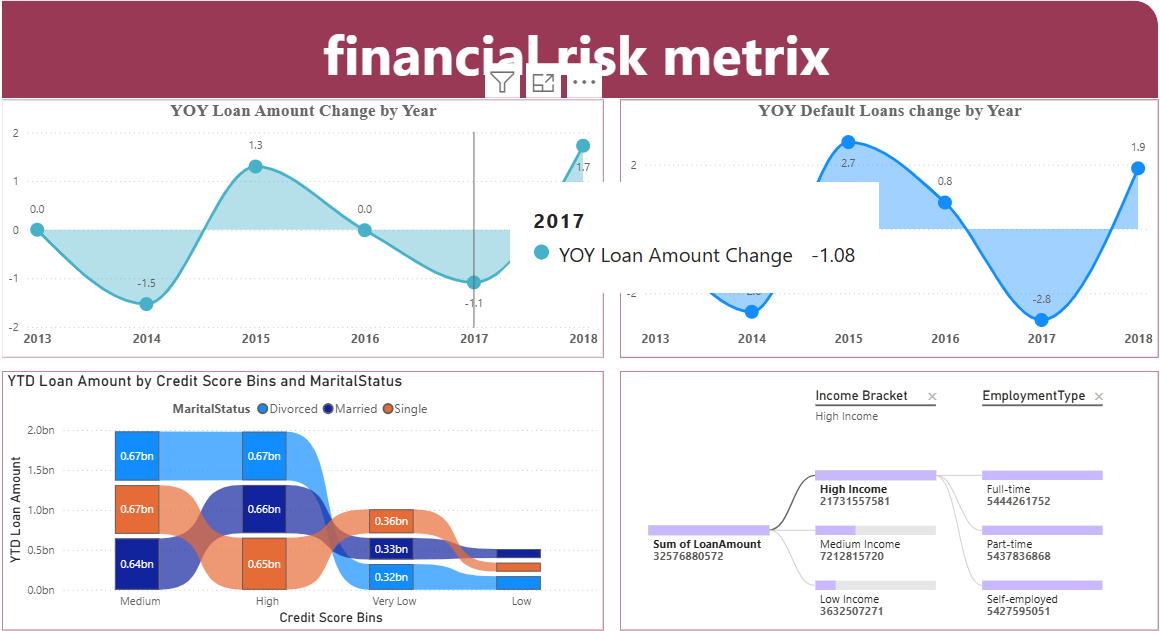

The dashboard page shown, as its layout file describes it:
{"tool":"powerbi","page":{"name":"financial risk matrix","canvas":[1280,720],"ordinal":2},"visuals":[{"type":"shape","box":[16.7,14.8,1247.9,105.5],"z":0},{"type":"lineChart","fields":{"Category":["Loan+Dataset+Link (1).Year"],"Y":["Measure Table 3.YOY Loan Amount Change"]},"box":[16.2,121.4,649.3,278.5],"z":1000},{"type":"lineChart","fields":{"Category":["Loan+Dataset+Link (1).Year"],"Y":["Measure Table 3.YOY Default Loans change"]},"box":[683.3,121.4,581.3,278.5],"z":2000},{"type":"ribbonChart","fields":{"Category":["Loan+Dataset+Link (1).Credit Score Bins"],"Series":["Loan+Dataset+Link (1).MaritalStatus"],"Y":["Measure Table 3.YTD Loan Amount"]},"box":[16.2,414.5,649.3,280.1],"z":3000},{"type":"decompositionTreeVisual","fields":{"Analyze":["Sum(Loan+Dataset+Link (1).LoanAmount)"],"ExplainBy":["Loan+Dataset+Link (1).Income Bracket","Loan+Dataset+Link (1).EmploymentType"]},"box":[683.3,414.5,581.3,280.1],"z":4000}]}

Visuals, with their boxes on the page's 1280x720 design canvas (x1, y1, x2, y2). These are canvas units, not pixel positions in the 1160x631 screenshot, which may show the page scaled, cropped or inside an application window:
shape: 17, 15, 1265, 120
lineChart - Loan+Dataset+Link (1).Year x Measure Table 3.YOY Loan Amount Change: 16, 121, 666, 400
lineChart - Loan+Dataset+Link (1).Year x Measure Table 3.YOY Default Loans change: 683, 121, 1265, 400
ribbonChart - Loan+Dataset+Link (1).Credit Score Bins x Loan+Dataset+Link (1).MaritalStatus: 16, 414, 666, 695
decompositionTreeVisual - Sum(Loan+Dataset+Link (1).LoanAmount) x Loan+Dataset+Link (1).Income Bracket: 683, 414, 1265, 695
